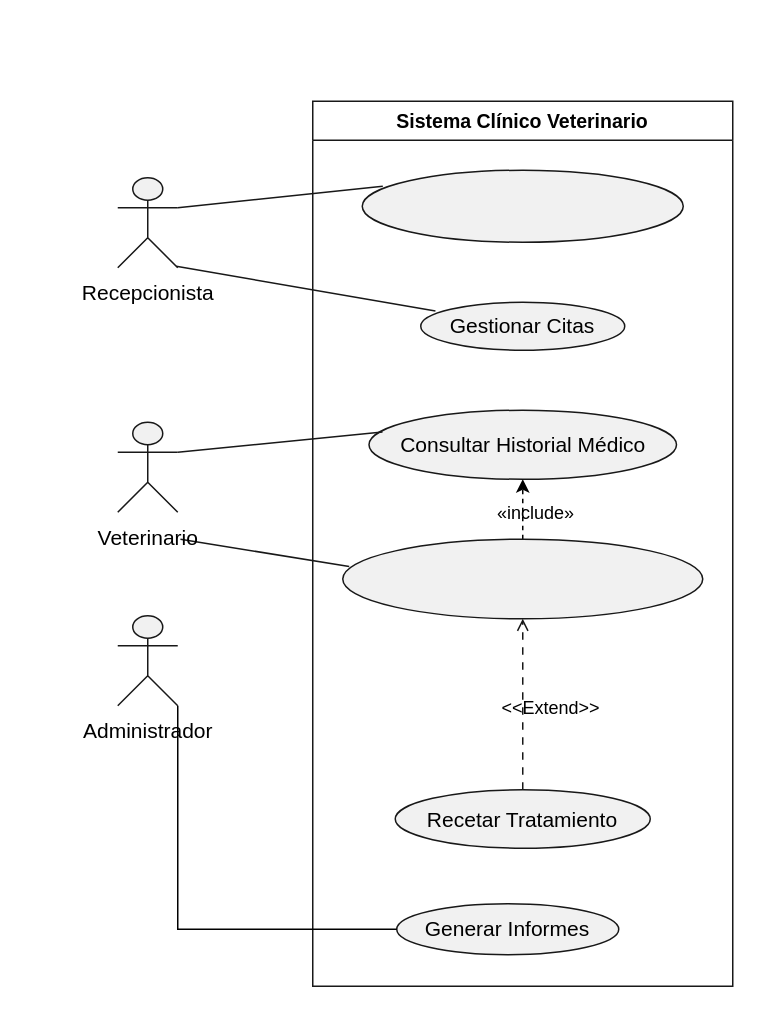
Image size: 759x1013. Some labels were removed from this diagram. The shapes that lost their labels are listed below. From the top down, each one's centre as x and y in pixels, then its label:
At (x=522, y=205): "Registrar Cliente y Mascota".
At (x=522, y=578): "Registro Consulta y Diagnóstico".
